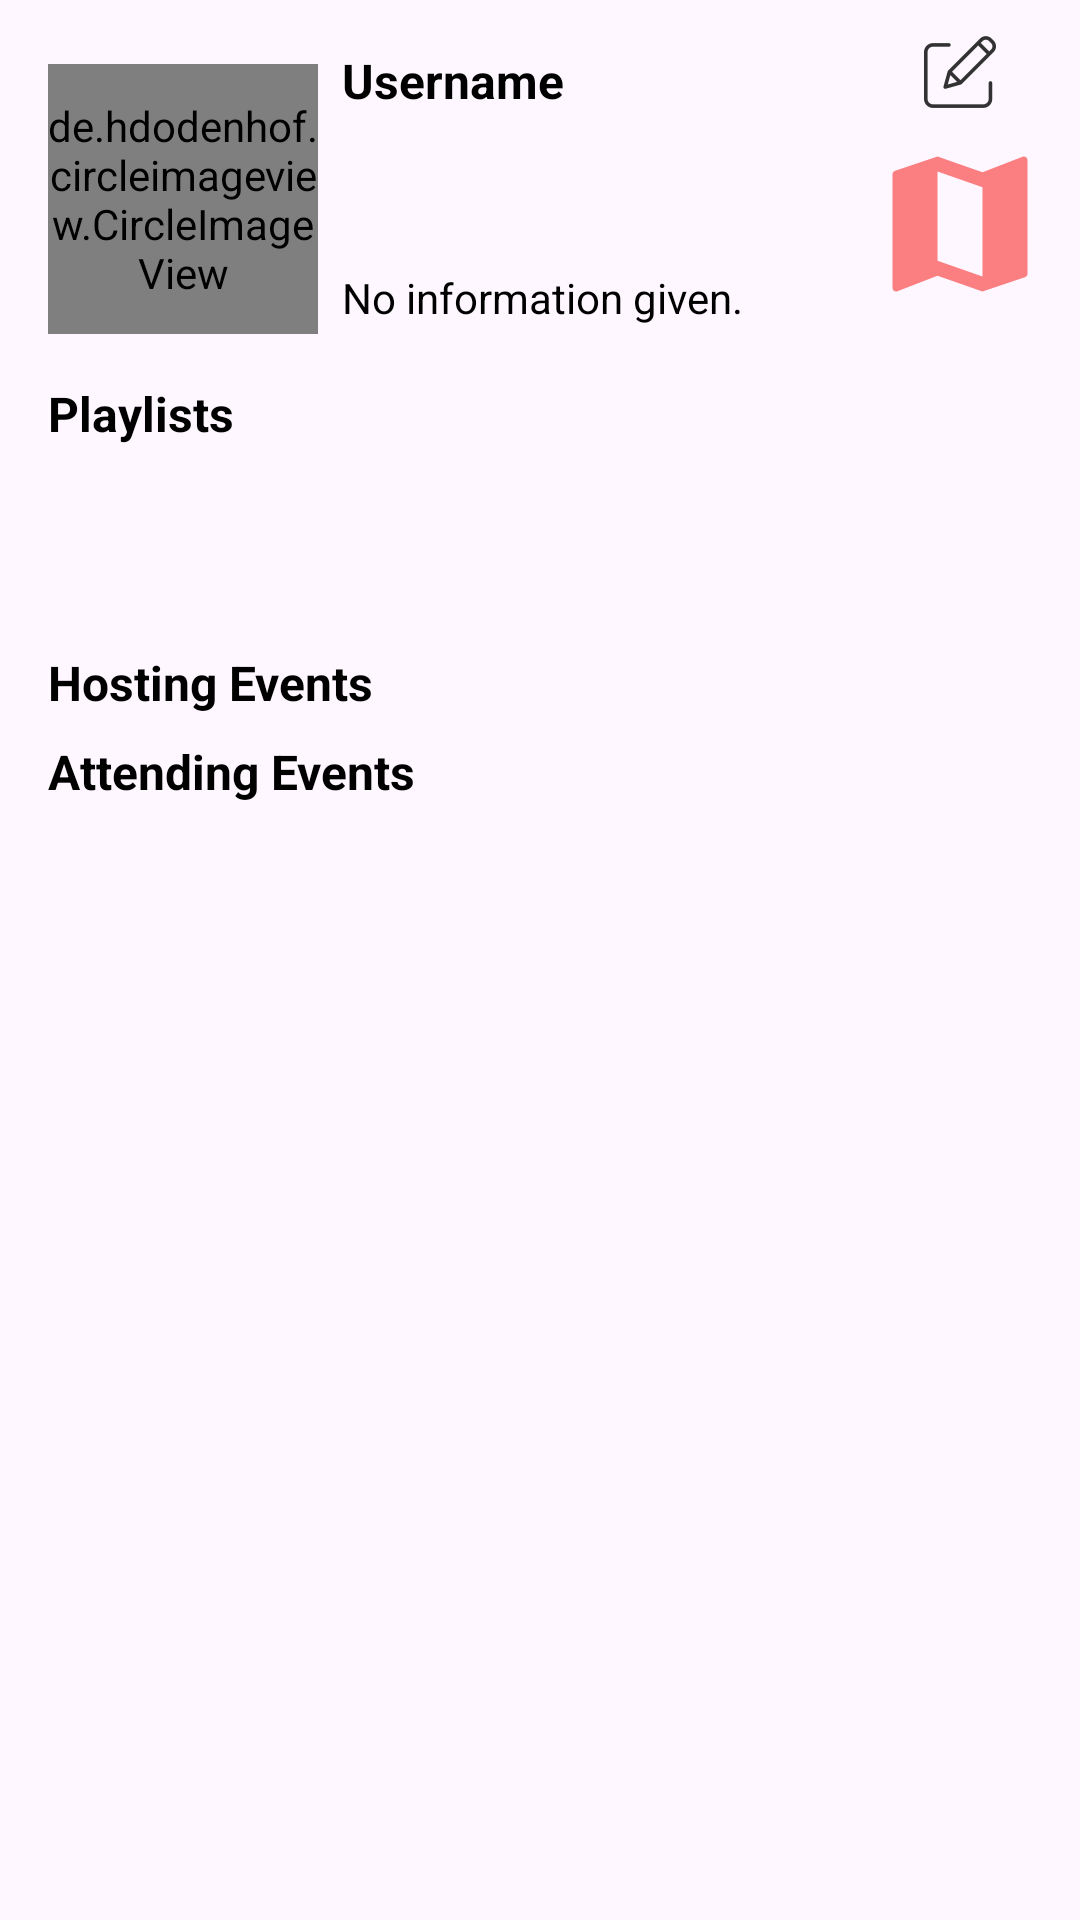

Icon bounding boxes for this 1080×1920 phone screenshot, format (x1, y1, x2, y2):
Edit: (924, 36, 996, 108)
map: (892, 156, 1028, 292)
